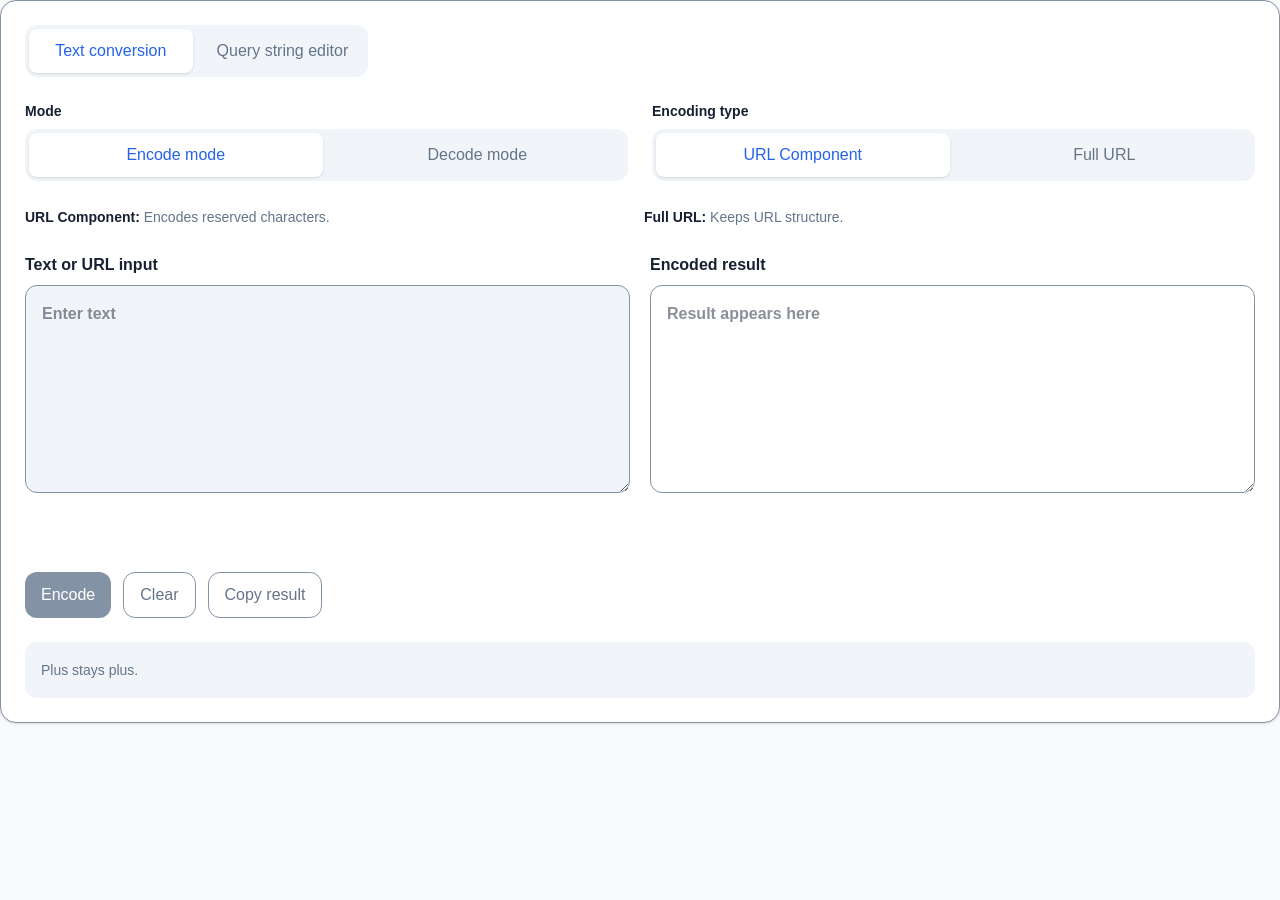
UrlEncoderDecoder › keeps plus literal in Decode
Click the button "Decode mode" at (477, 155), box [330, 133, 624, 177]
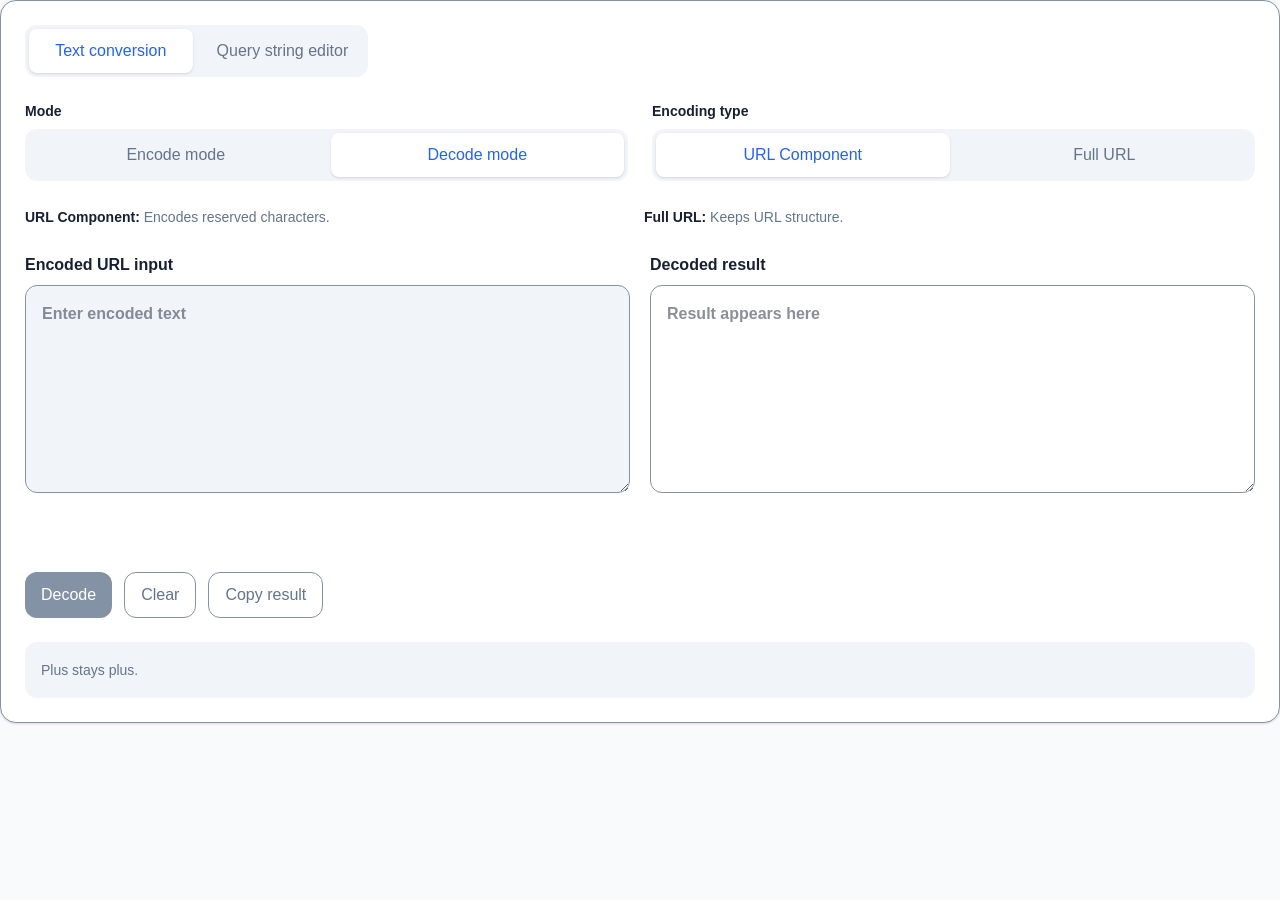
Type "a+b%20c" into the text box labelled "Encoded URL input" at (328, 389), box [25, 285, 630, 493]
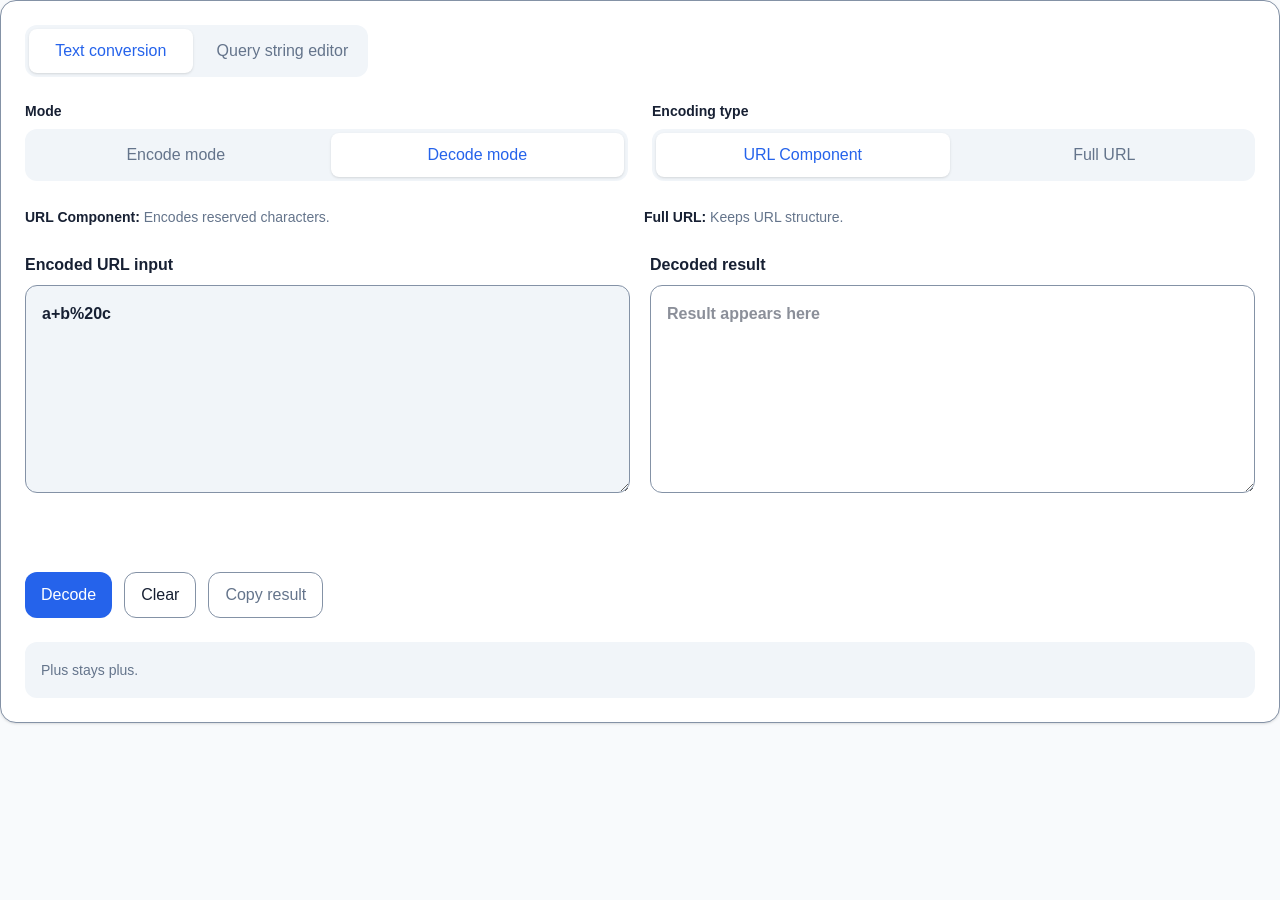
Click the button "Decode" at (69, 595), box [25, 572, 112, 618]
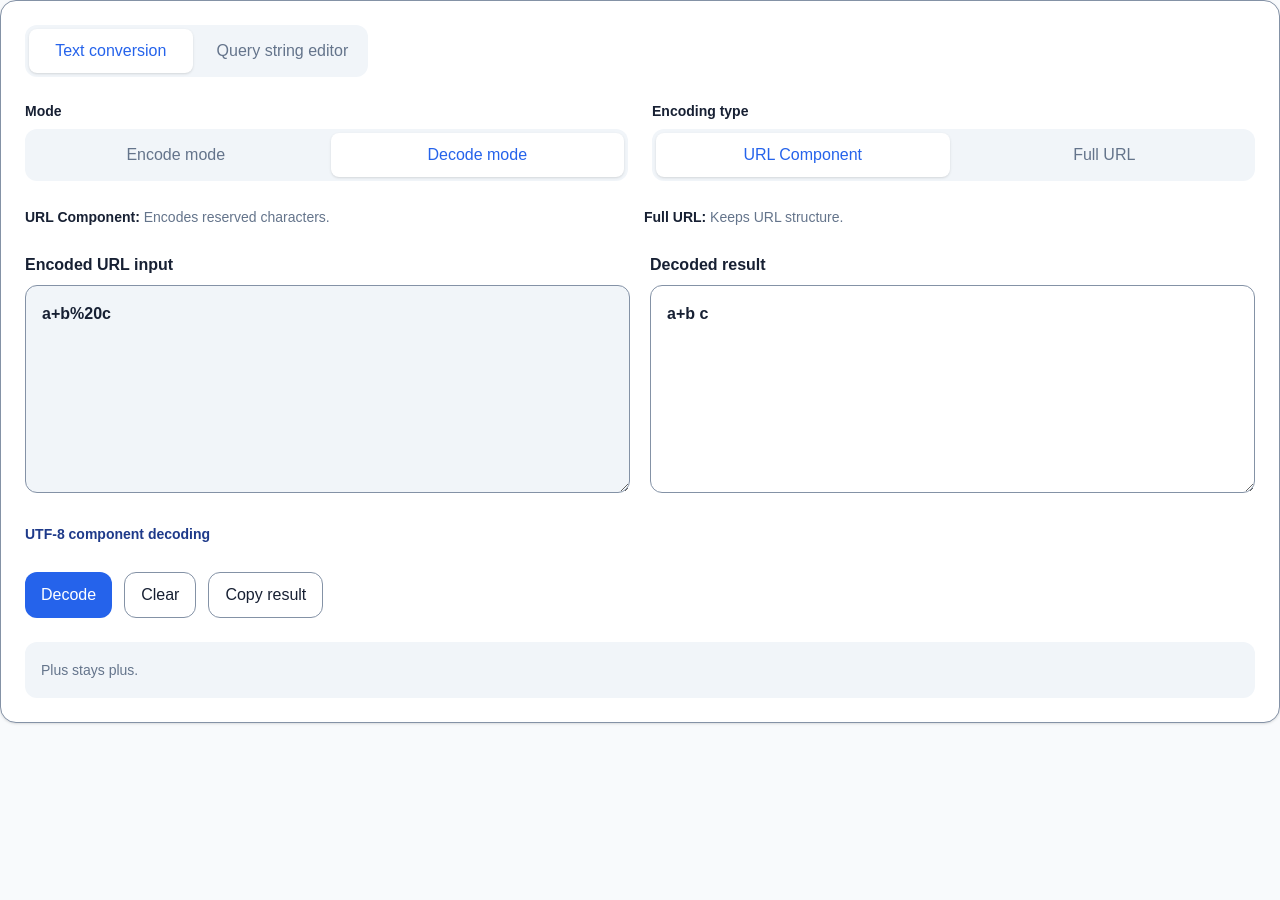
Check: the text box labelled "Decoded result" holds "a+b c", box [650, 285, 1255, 493]
